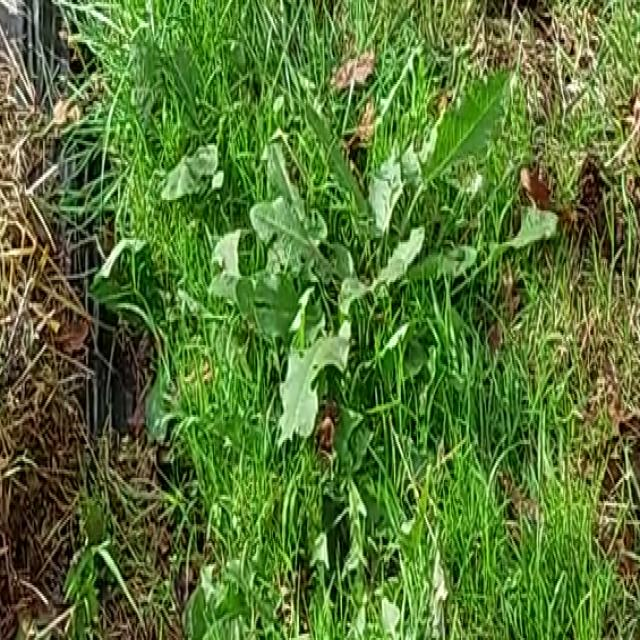organic waste: (197, 76, 522, 480)
